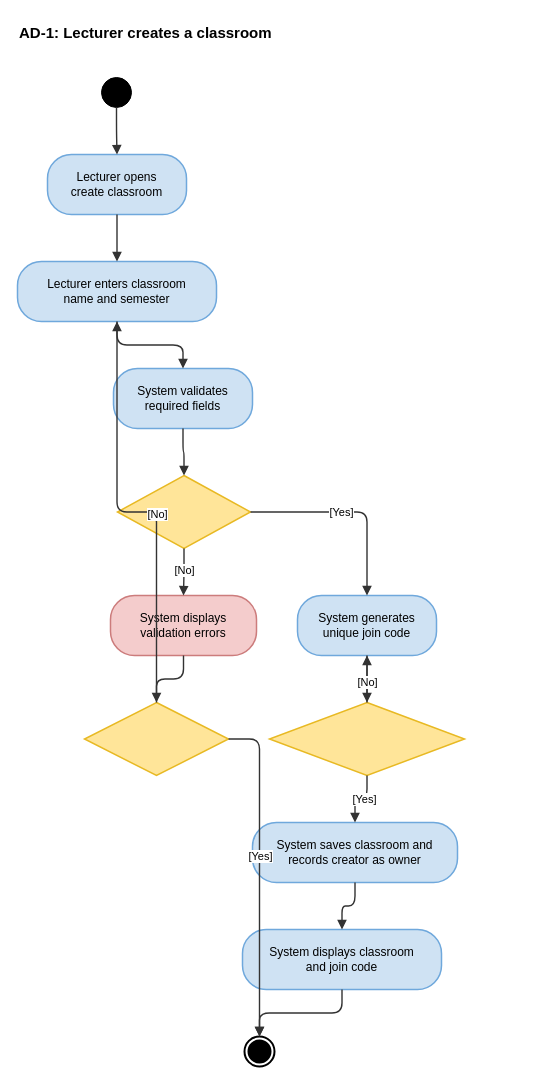
This 542x1084 diagram has some shape labels left out. Here are the shapes that lost their labels. From the top down, the box of each, then its label:
(116, 474, 251, 549): Valid?
(83, 701, 229, 776): Cancel?
(268, 701, 465, 776): Code unique?
